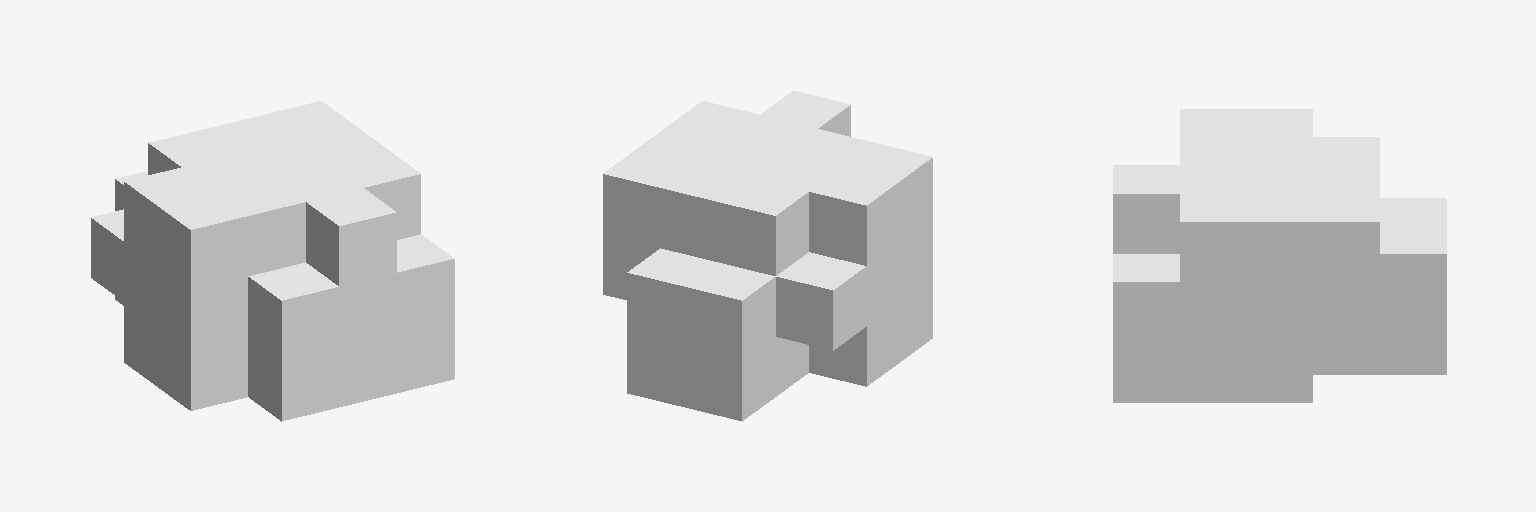
File: SH_Enviorment-9-StoneE.obj
The picture shows the model from 3 angles: view 1: azimuth 30°, elevation 25°; view 2: azimuth 150°, elevation 25°; view 3: azimuth 270°, elevation 25°; orthographic projection.
Visible parts, largest first — view 1: StoneE; view 2: StoneE; view 3: StoneE.
Part boxes in pixels (x1,y1,x2,y2): StoneE: (91,101,454,421); StoneE: (603,90,932,421); StoneE: (1113,109,1446,402).
Bounding box in the file's own units: 0.4 × 0.3 × 0.5.